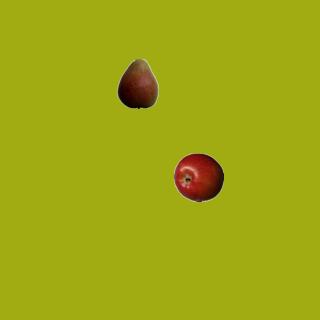Apple Braeburn: (173, 152, 223, 202)
Pear Forelle: (112, 58, 162, 108)
